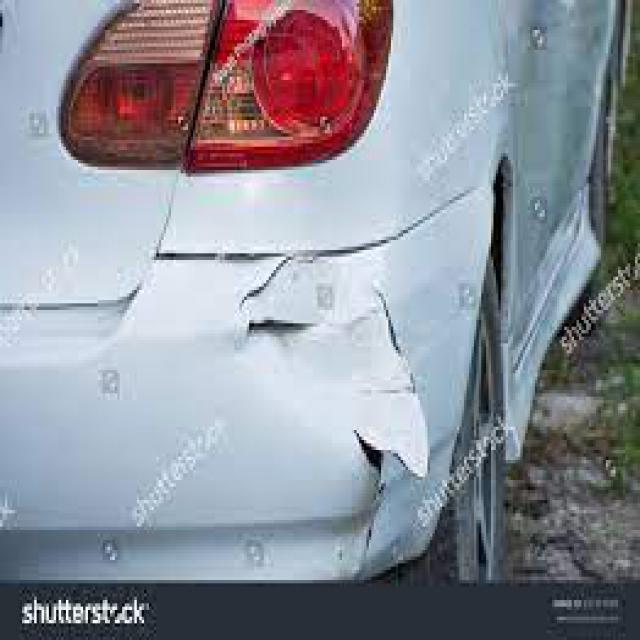rear-bumper-dent: (0, 224, 518, 594)
